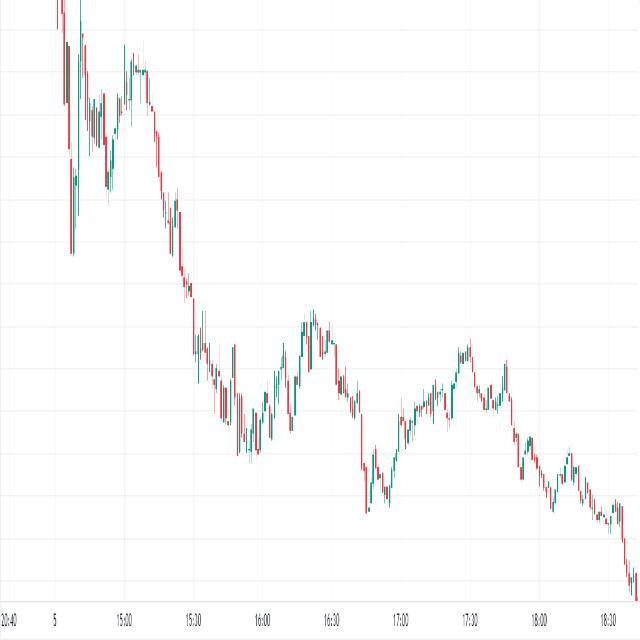Rounding-Bottom: (186, 295, 323, 478)
